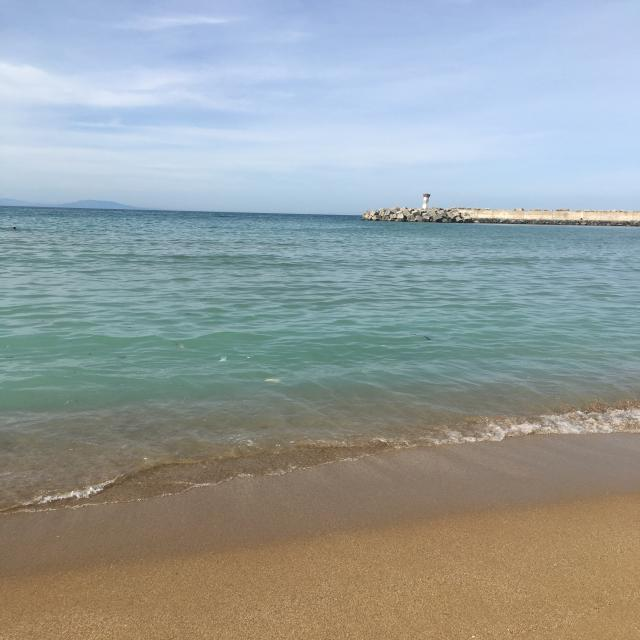Plastic packaging: (263, 376, 282, 384), (218, 353, 228, 363)
